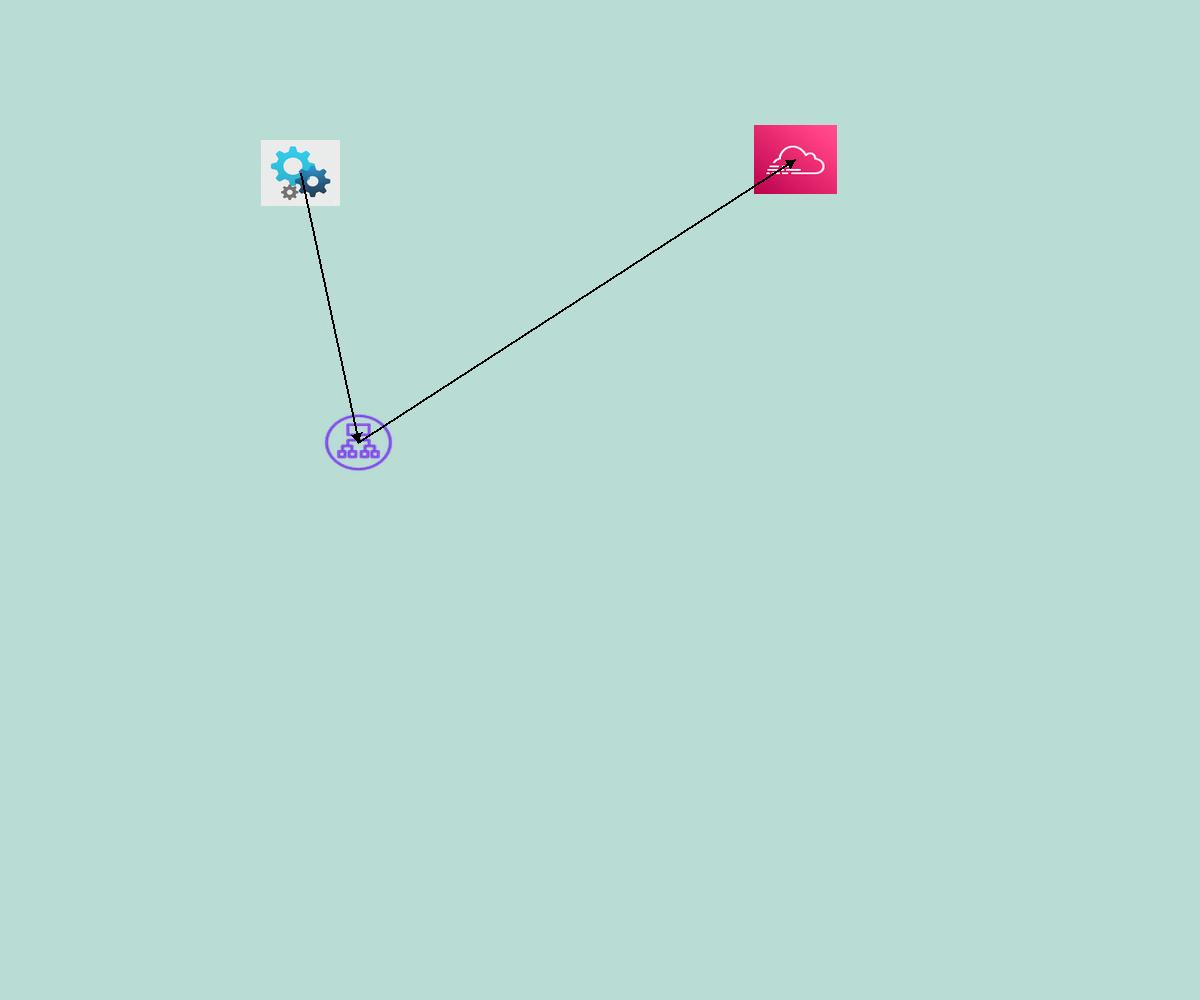AWS-CloudTrail: (754, 125, 837, 194)
AWS-Res_Elastic-Load-Balancing_Application-Load-Balancer: (322, 412, 395, 473)
Azure_api: (261, 140, 340, 206)
